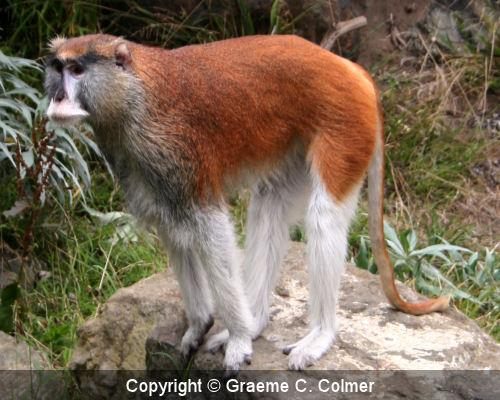monkey: (34, 34, 378, 371)
